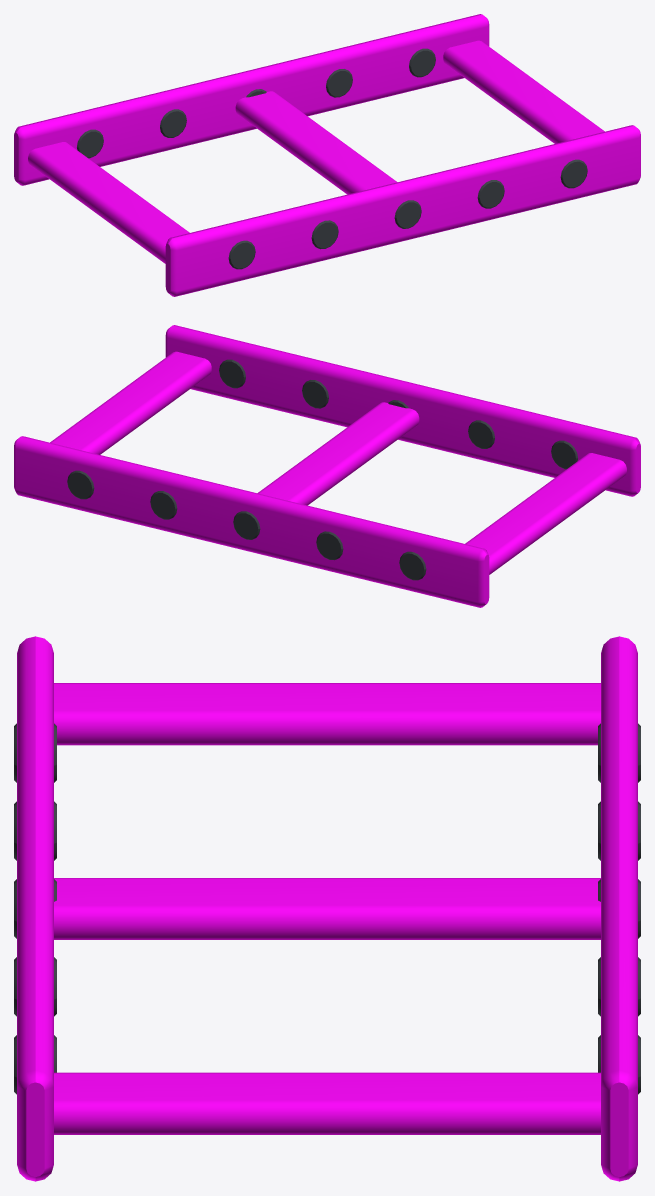
Rendered from objet_chassis_leger.glb.
3 renders of one model, top to bottom at view 1: azimuth 30°, elevation 25°; view 2: azimuth 150°, elevation 25°; view 3: azimuth 270°, elevation 25°, orthographic. The views are drawn at different scales.
Visible parts, largest first — view 1: chassis_teinte.008, chassis_teinte_sombre.004; view 2: chassis_teinte.008, chassis_teinte_sombre.004; view 3: chassis_teinte.008, chassis_teinte_sombre.004.
Boxes of the visible parts, x1,y1,x2,y2 form: chassis_teinte.008: (14, 14, 640, 296); chassis_teinte_sombre.004: (77, 48, 587, 269); chassis_teinte.008: (14, 325, 640, 607); chassis_teinte_sombre.004: (67, 359, 577, 580); chassis_teinte.008: (17, 636, 637, 1181); chassis_teinte_sombre.004: (14, 723, 640, 1094).
Size of the model in its own units: 0.34 by 0.04 by 0.204.
